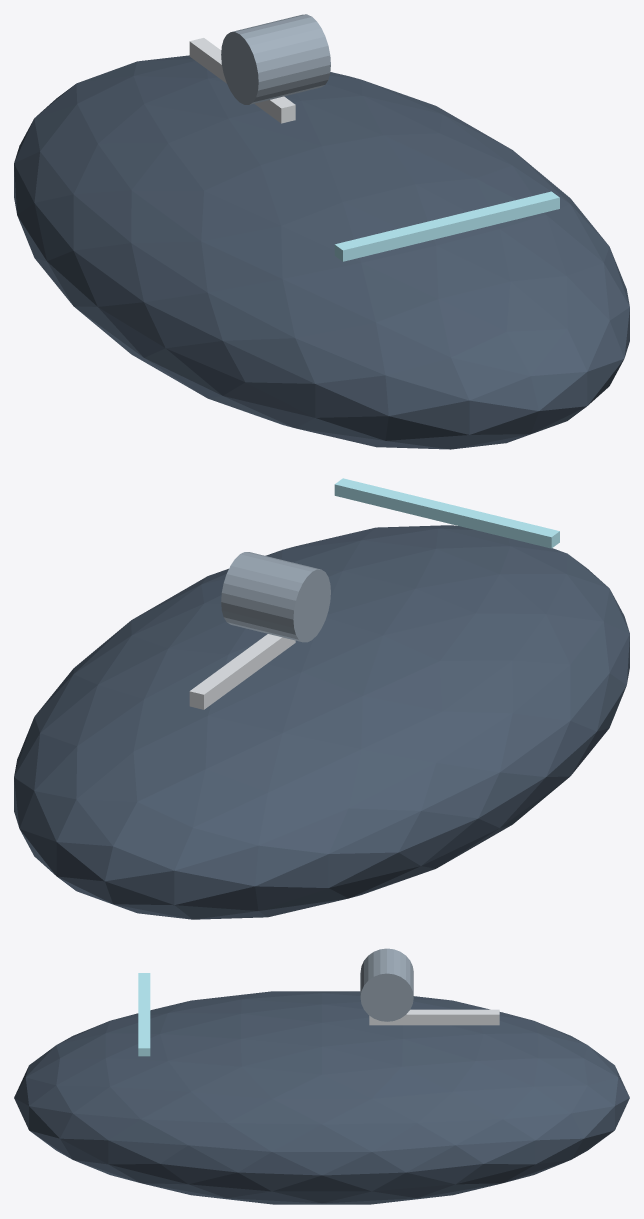
The model's file is mouse.glb.
The picture shows the model from 3 angles, top to bottom: view 1: azimuth 30°, elevation 25°; view 2: azimuth 150°, elevation 25°; view 3: azimuth 270°, elevation 25°; orthographic projection. The views are drawn at different scales.
Visible parts, largest first — view 1: mouse_shell_1, scroll_wheel_3, mouse_rgb_4, mouse_split_2; view 2: mouse_shell_1, scroll_wheel_3, mouse_rgb_4, mouse_split_2; view 3: mouse_shell_1, scroll_wheel_3, mouse_split_2, mouse_rgb_4.
Part boxes in pixels (x1,y1,x2,y2): mouse_shell_1: (14,55,629,449); scroll_wheel_3: (221,14,330,104); mouse_rgb_4: (334,191,559,261); mouse_split_2: (189,38,295,123); mouse_shell_1: (14,525,629,919); scroll_wheel_3: (221,552,330,642); mouse_rgb_4: (334,478,559,548); mouse_split_2: (189,634,295,709); mouse_shell_1: (14,991,629,1204); scroll_wheel_3: (360,948,413,1021); mouse_split_2: (369,1009,499,1025); mouse_rgb_4: (138,973,150,1056).
Bounding box in the file's own units: 0.62 × 0.395 × 1.04.
